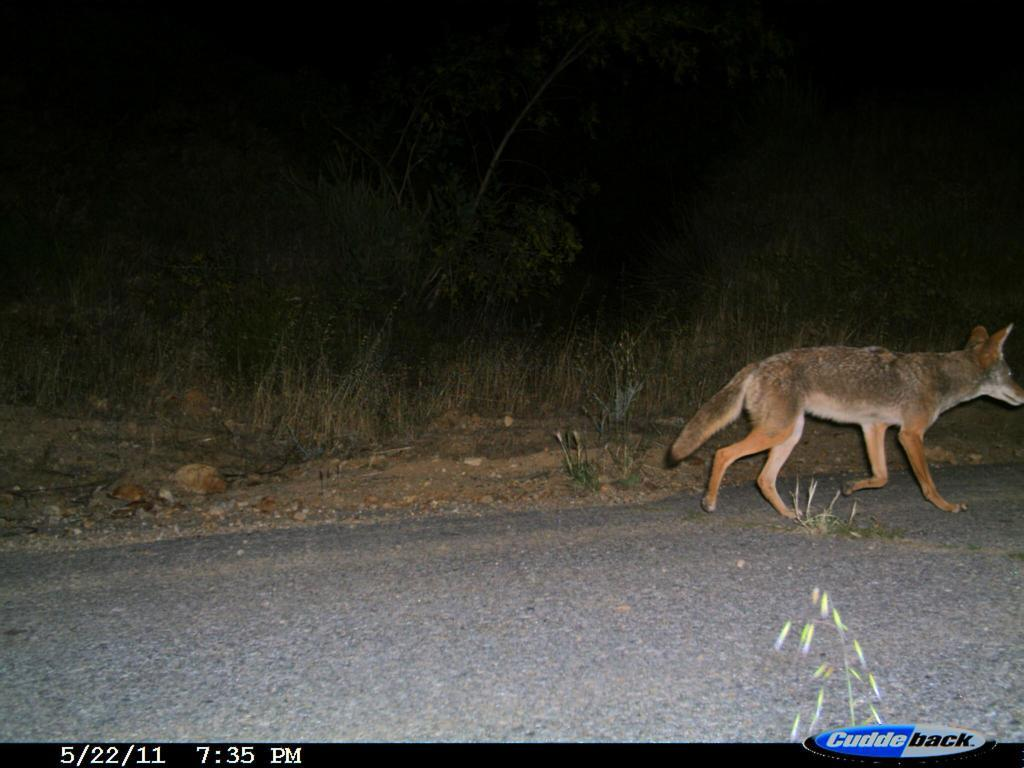coyote: (656, 304, 1023, 527)
